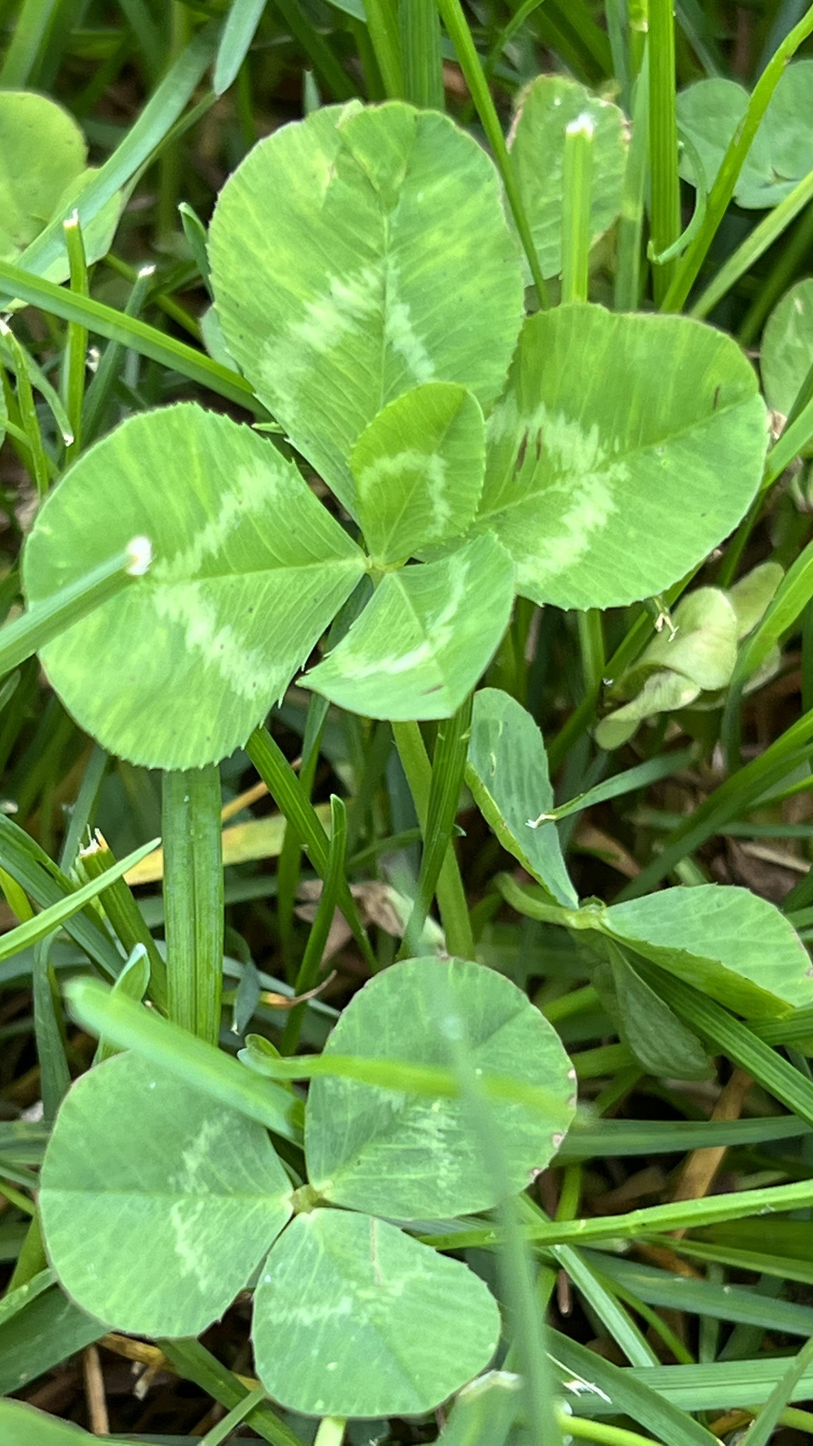5-Leaf-Clovers: (28, 97, 768, 738)
